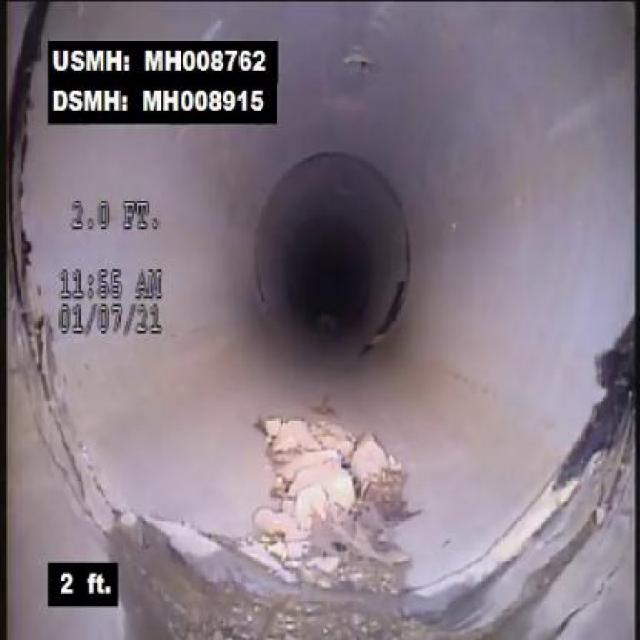Debris: (198, 366, 434, 562)
